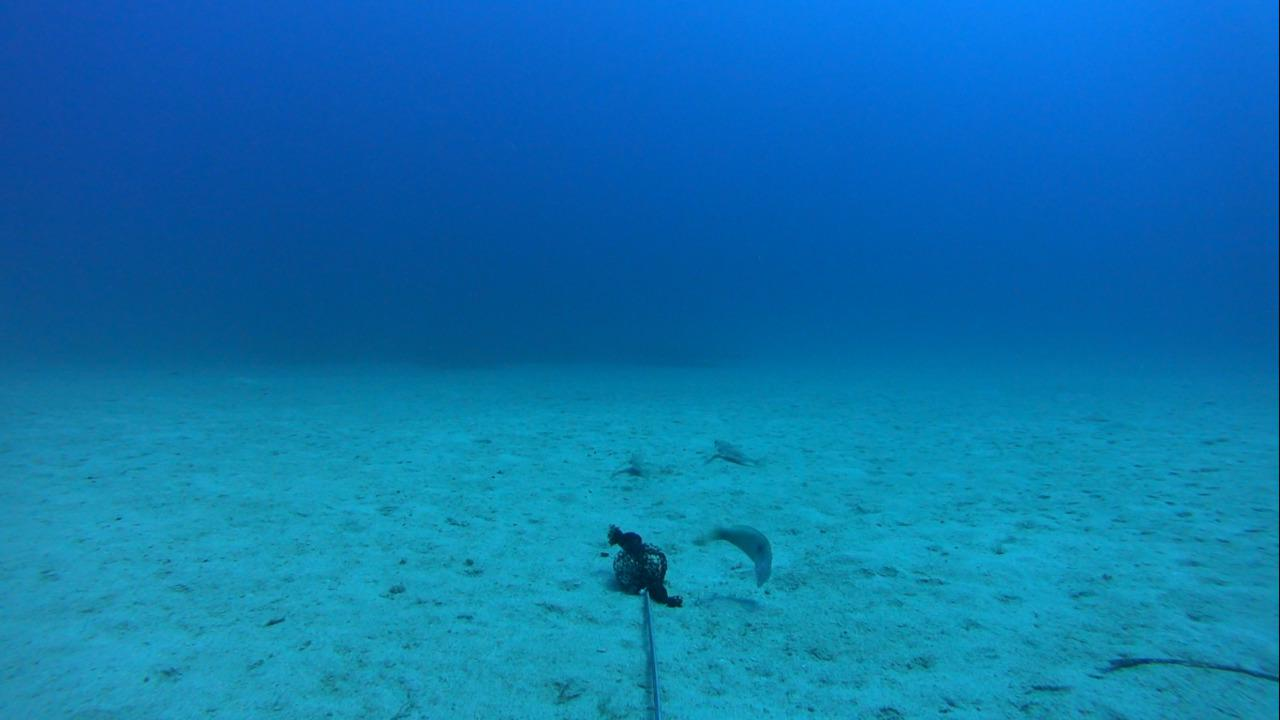dactylopterus: (597, 446, 672, 494), (689, 429, 762, 475)
raor: (703, 517, 779, 592)
